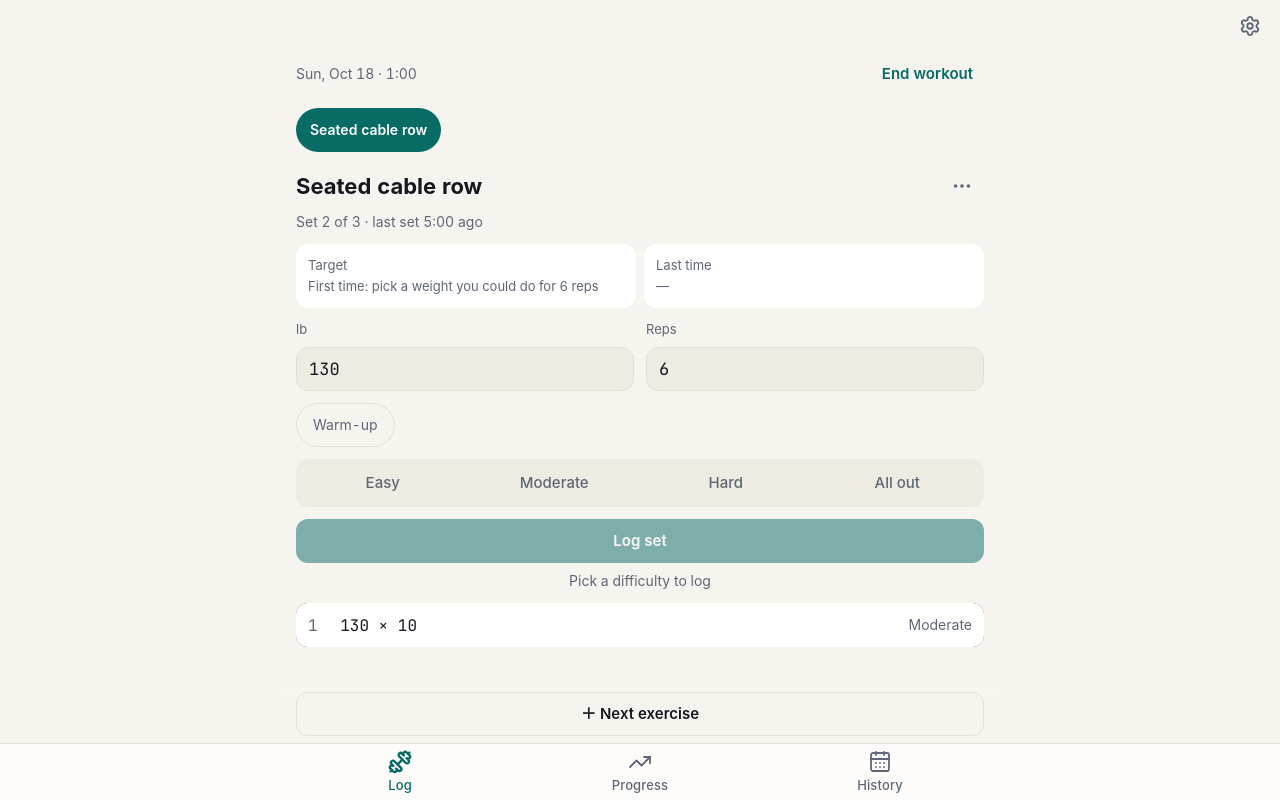
Test: log screen › End workout stops both clocks; logging again picks the workout back up
Expected: the text "Sun, Oct 18 · 1:00" is shown, [296, 64, 417, 84]
Expected: the text "Set 2 of 3 · last set 5:00 ago" is shown, [296, 213, 483, 230]
Click the button "End workout".
click(927, 74)  # box [871, 52, 984, 96]
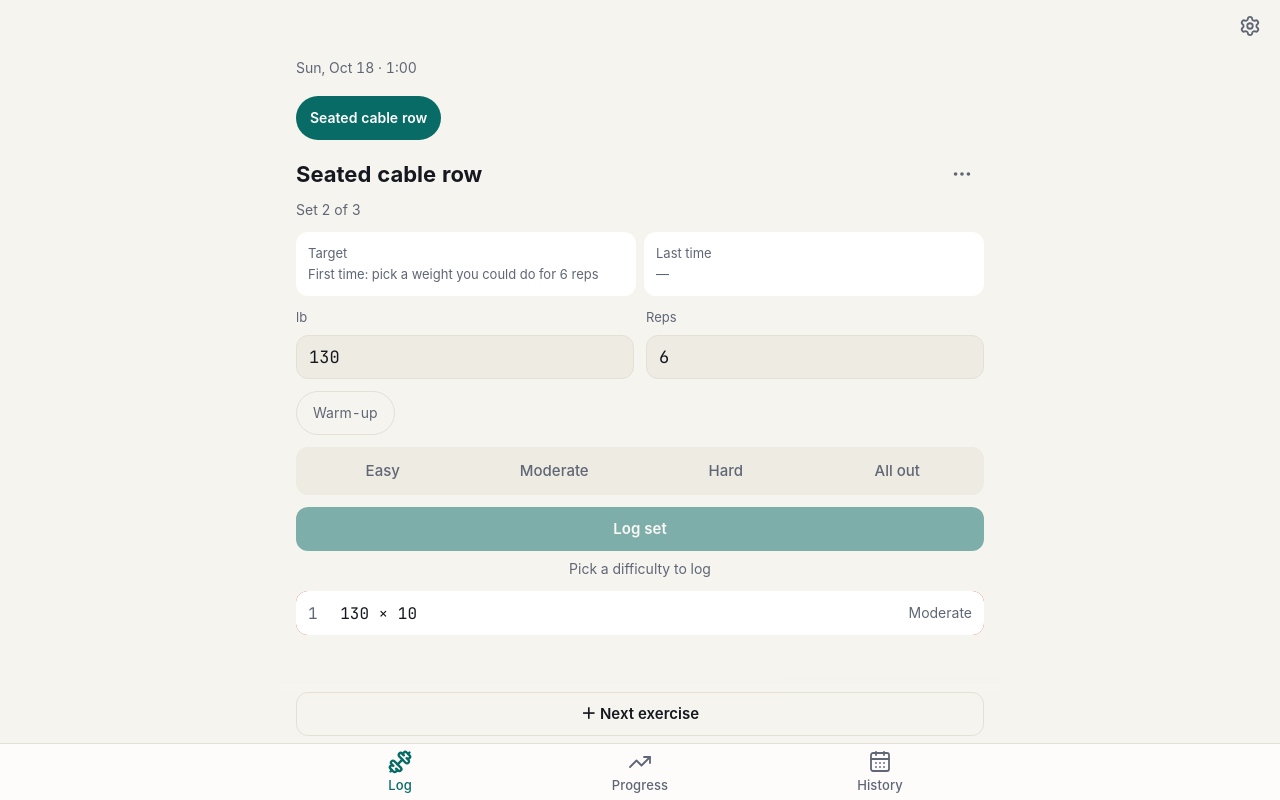
Expected: the text "Sun, Oct 18 · 1:00" is shown, [296, 58, 417, 78]
Result: the text "last set" is gone
Result: the button "End workout" is gone
Click the radio button labelled "Hard".
click(726, 471)  # box [641, 449, 810, 493]
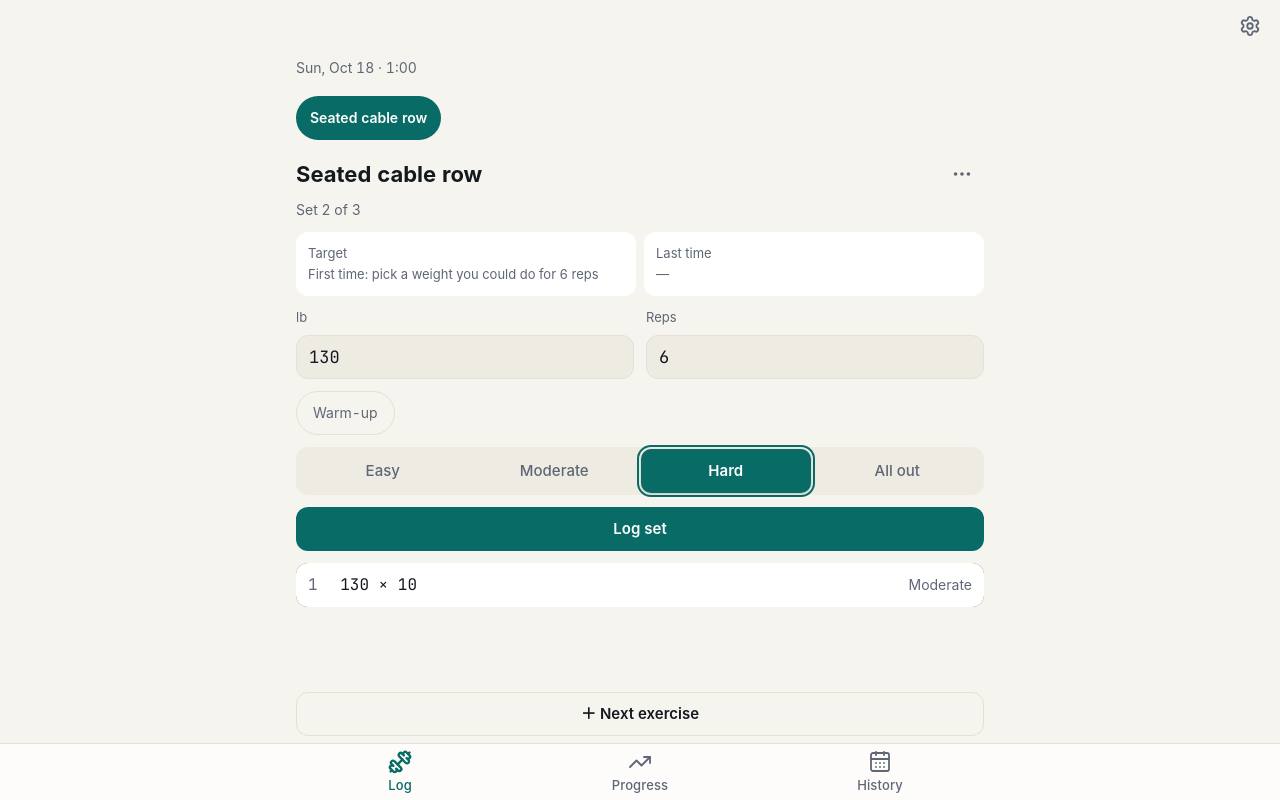
Click the button "Log set".
click(640, 529)  # box [296, 507, 984, 551]
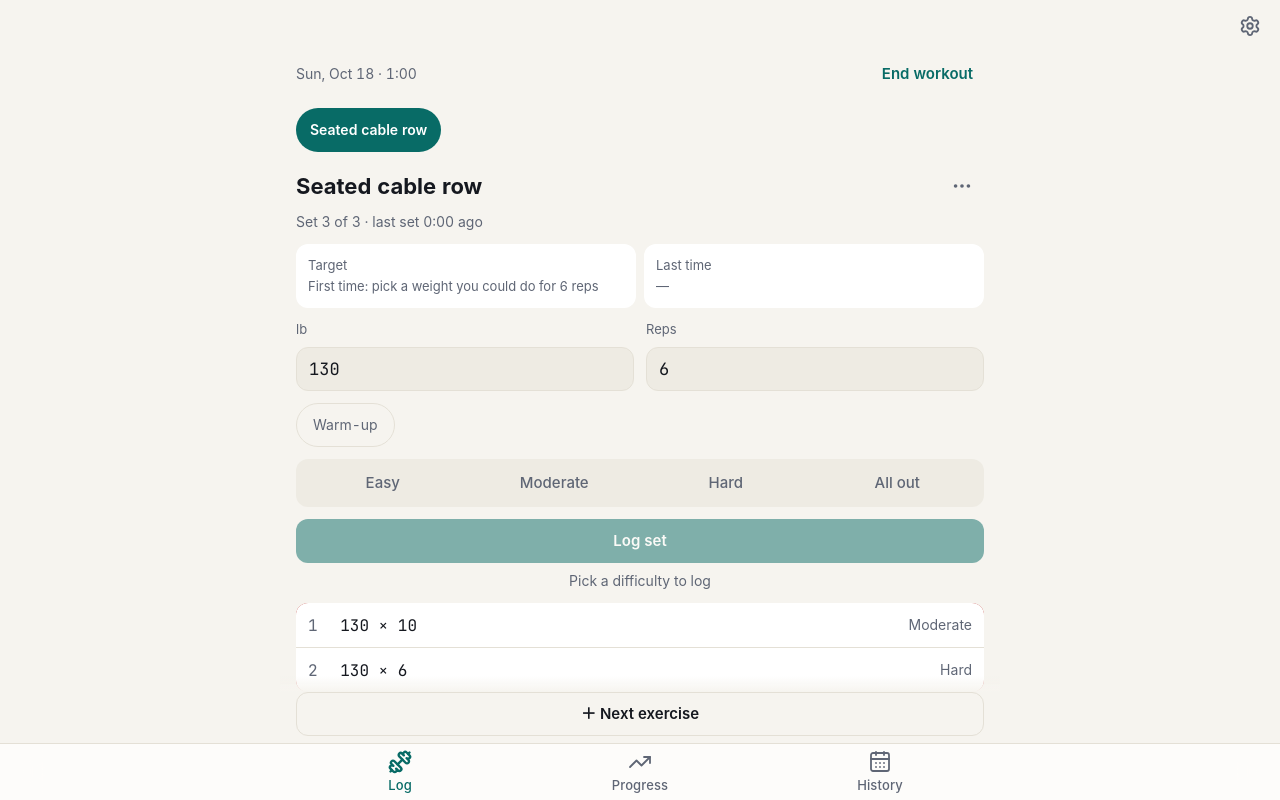
Result: the button "End workout" is shown at [871, 52, 984, 96]
Result: the text "Set 3 of 3 · last set 0:00 ago" is shown at [296, 213, 483, 230]
